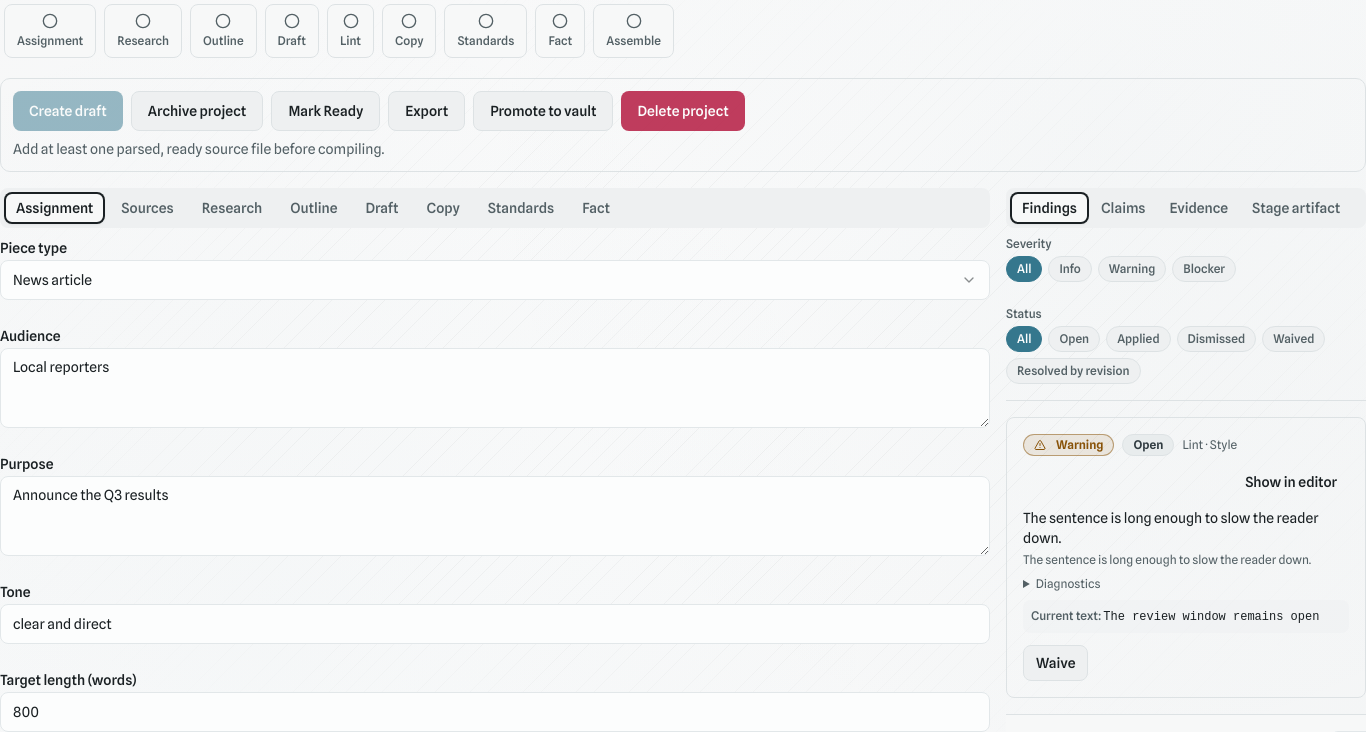
Test: DraftWorkspace (issue #533) › a finding from another revision offers Compare with current revision and switches to the diff
The width and height of the screenshot is (1366, 732).
Click the button with aria-label "show finding in editor" at (1291, 482), box [1233,464,1349,500]
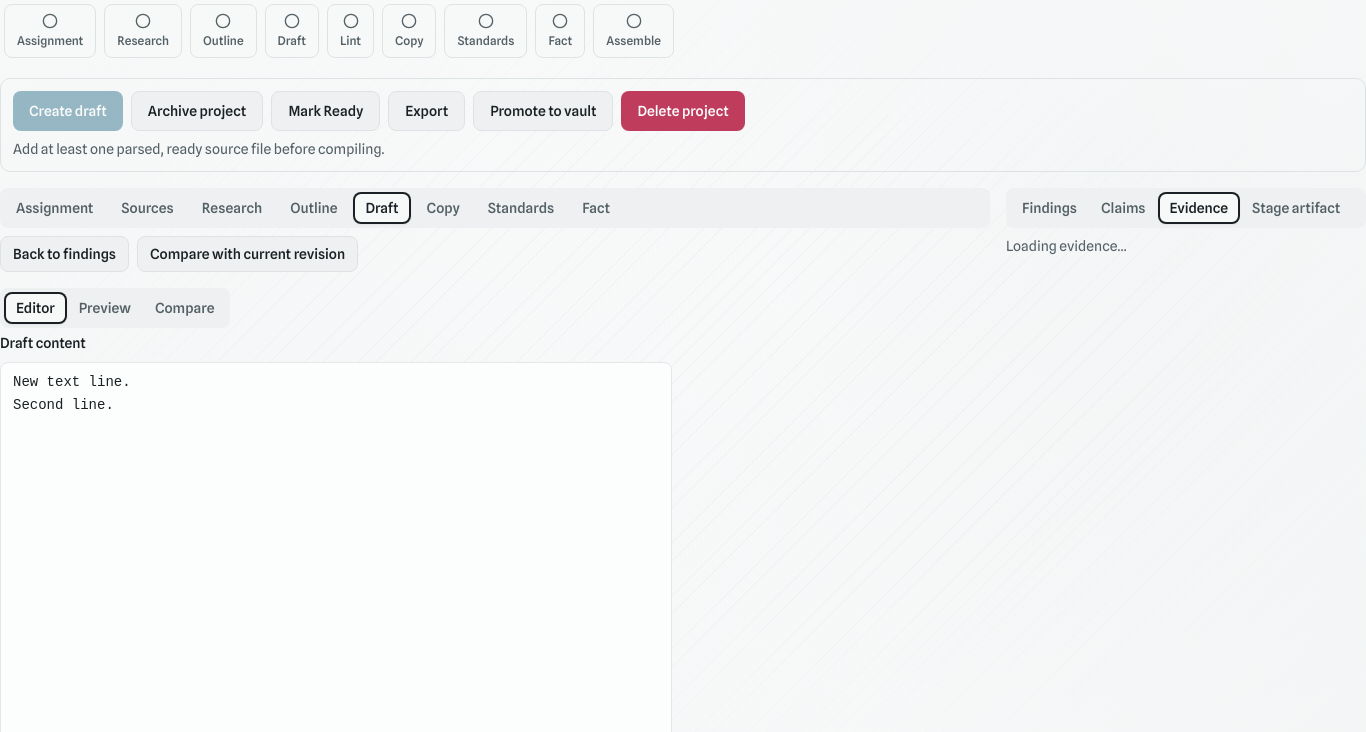
Expected: the button "Back to findings" is shown, [0,236,129,272]
Click the button "Compare with current revision" at (248, 254), box [137,236,358,272]
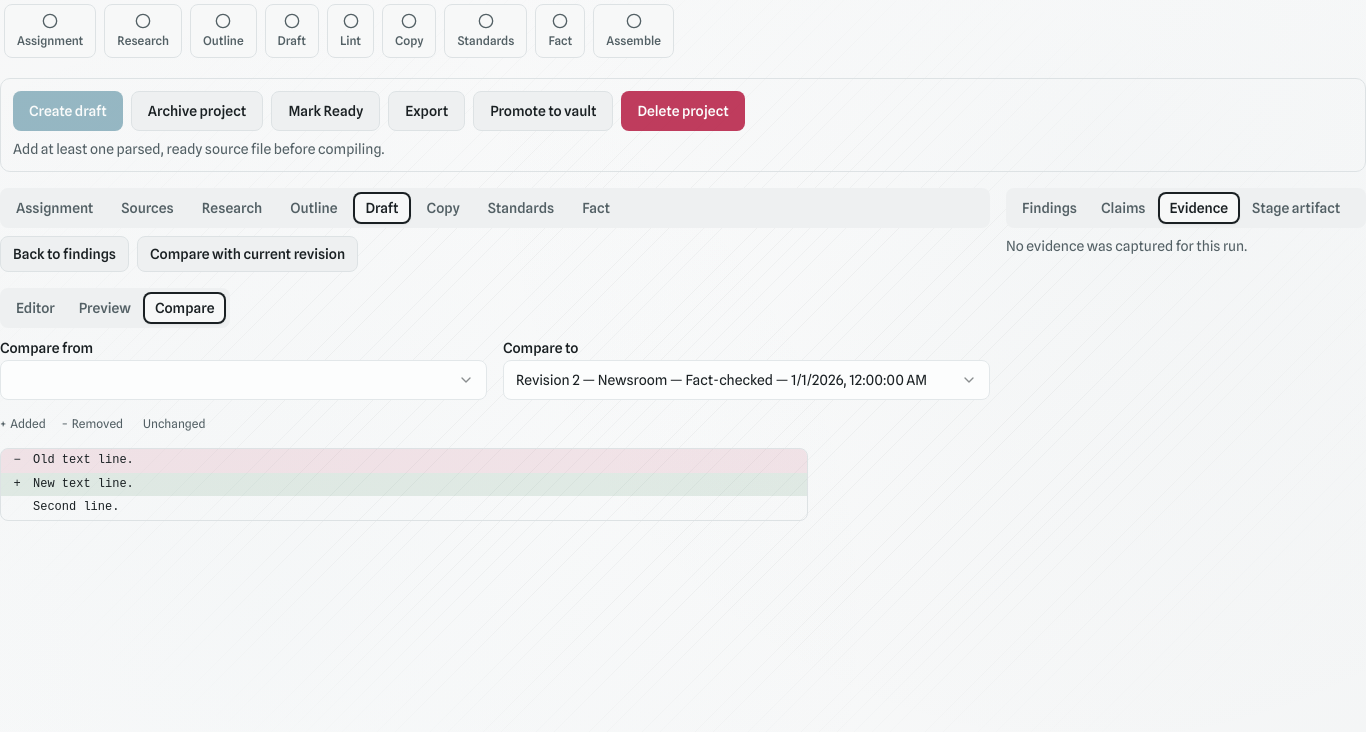
Expected: the label labelled "Draft content" is gone
Expected: the element with test id "draft-diff-row" shows "Old text line.", [33,453,134,467]
Expected: the element with test id "draft-diff-row" shows "New text line.", [33,476,134,490]
